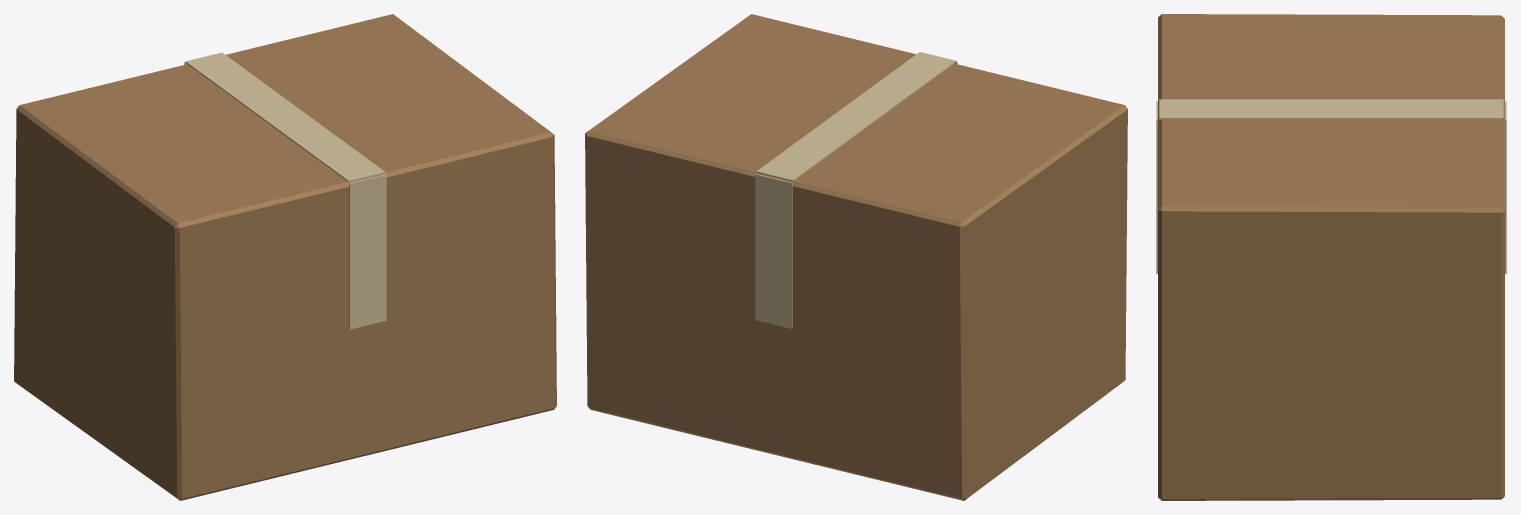
Rendered from box_cardboard_closed.glb.
3 renders of one model, left to right at view 1: azimuth 30°, elevation 25°; view 2: azimuth 150°, elevation 25°; view 3: azimuth 270°, elevation 25°, orthographic. The views are drawn at different scales.
Parts seen in each view (by area): view 1: Caja, Cinta superior, Cinta lateral; view 2: Caja, Cinta superior, Cinta lateral.001; view 3: Caja, Cinta superior.
Boxes of the visible parts, x1,y1,x2,y2 form: Caja: [14, 14, 556, 500]; Cinta superior: [185, 52, 385, 181]; Cinta lateral: [349, 174, 386, 329]; Caja: [585, 14, 1127, 500]; Cinta superior: [756, 52, 956, 181]; Cinta lateral.001: [755, 174, 792, 328]; Caja: [1158, 14, 1504, 500]; Cinta superior: [1159, 99, 1503, 119].
Size of the model in its own units: 0.6038 by 0.423 by 0.454.
